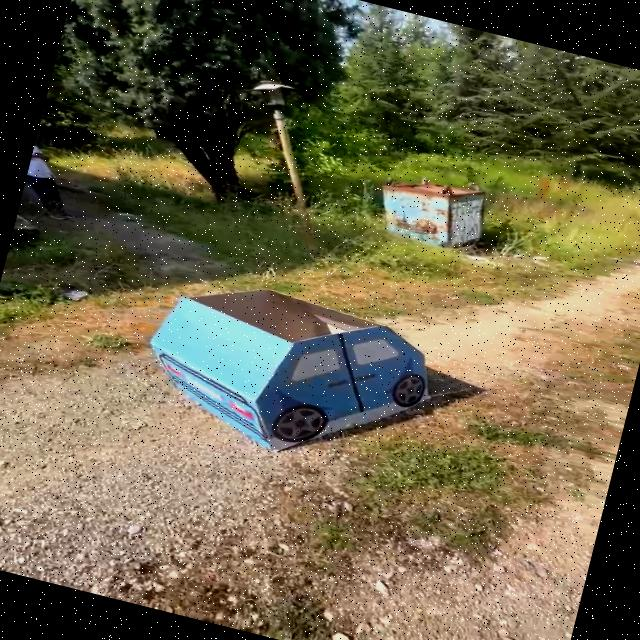blue_car: (112, 245, 465, 500)
